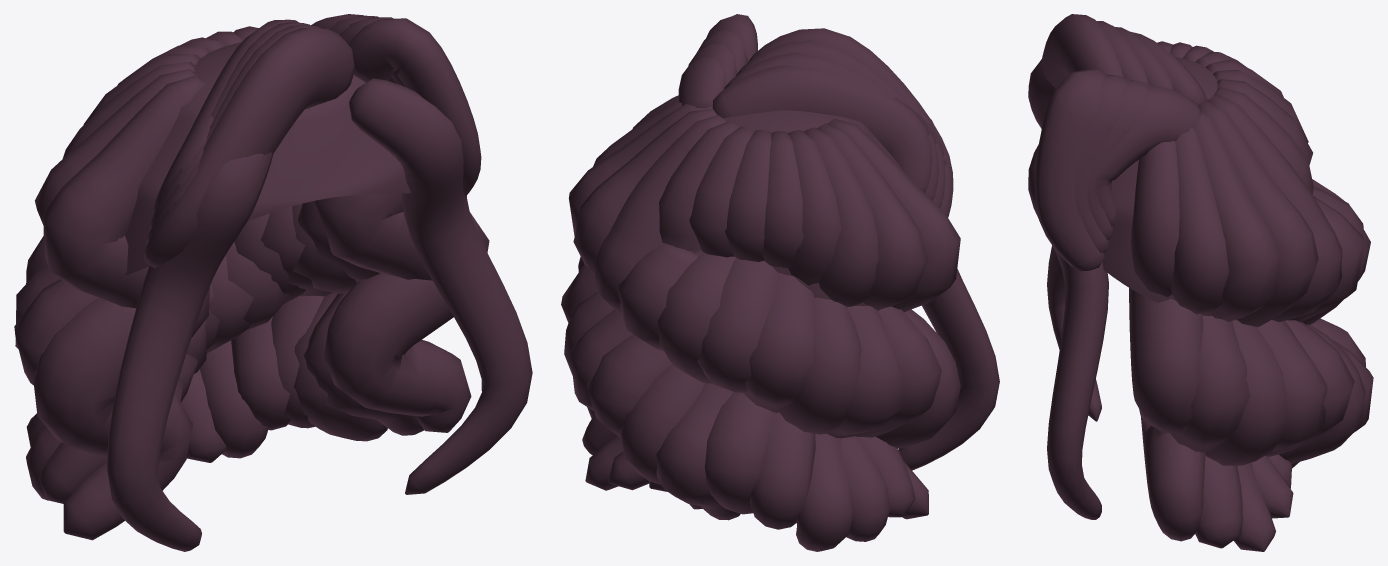
Rendered from studio_curly_long_medium.glb.
3 renders of one model, left to right at view 1: azimuth 30°, elevation 25°; view 2: azimuth 150°, elevation 25°; view 3: azimuth 270°, elevation 25°, orthographic. The views are drawn at different scales.
Visible parts, largest first — view 1: curly_long; view 2: curly_long; view 3: curly_long.
Boxes of the visible parts, x1=… form: curly_long: x1=14, y1=14, x2=532, y2=551; curly_long: x1=561, y1=14, x2=999, y2=551; curly_long: x1=1028, y1=14, x2=1373, y2=551.
Size of the model in its own units: 0.6738 by 0.7436 by 0.5054.
